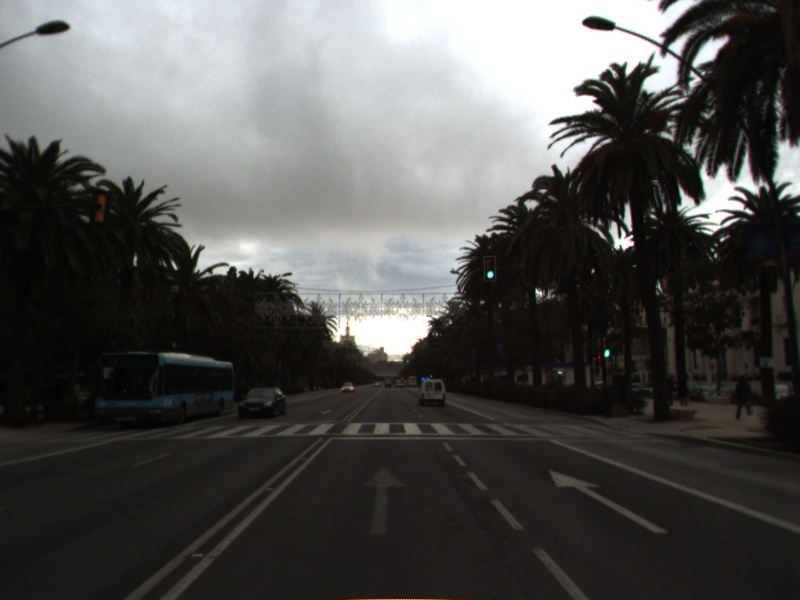STRAIGHT: (546, 467, 672, 536), (358, 464, 411, 538)
